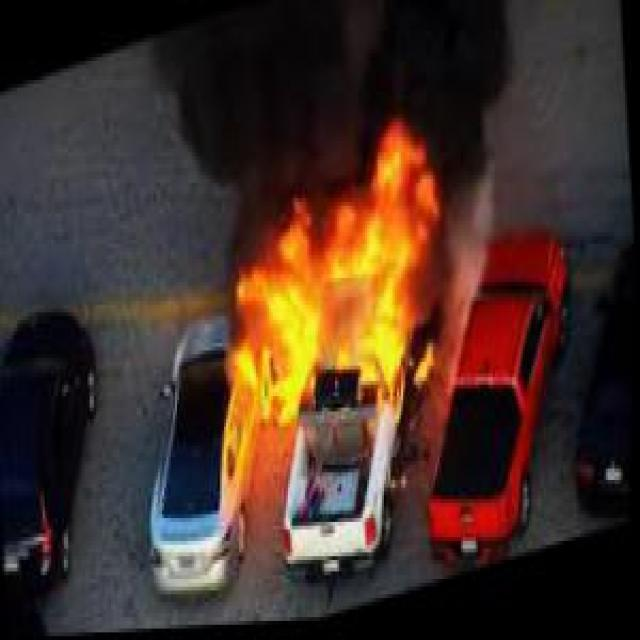Fire: (226, 114, 461, 450)
Smoke: (149, 0, 529, 198)
